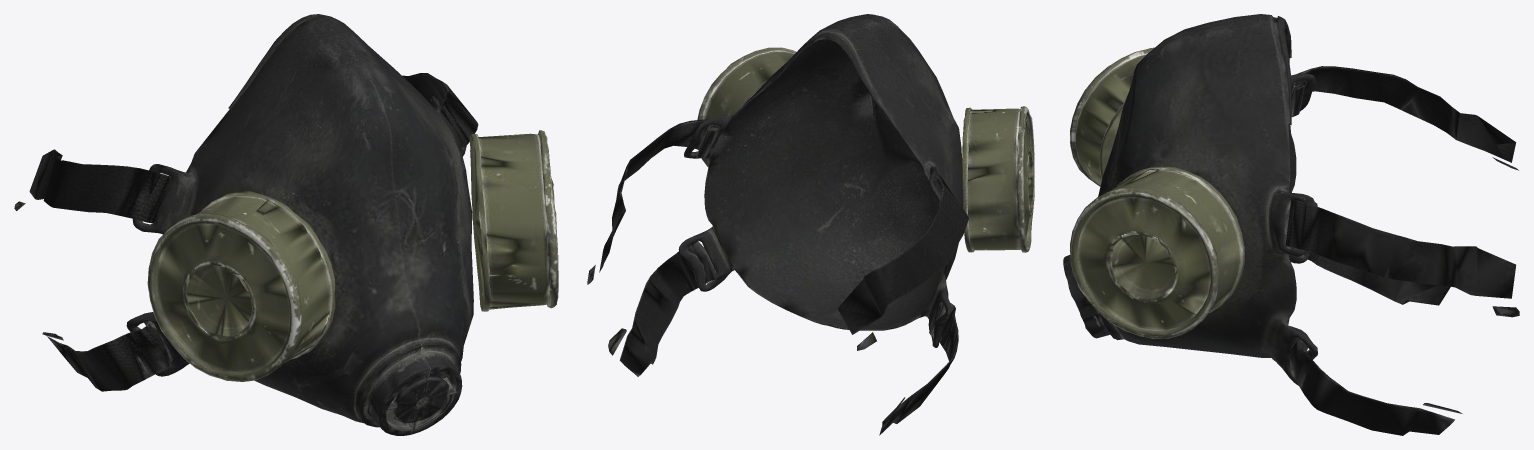
File: respirator.glb
3 views of the same model, side by side, from view 1: azimuth 30°, elevation 25°; view 2: azimuth 150°, elevation 25°; view 3: azimuth 270°, elevation 25° (orthographic). The views are drawn at different scales.
Visible parts, largest first — view 1: respirator; view 2: respirator; view 3: respirator.
Part boxes in pixels (x1=…): respirator: x1=14, y1=14, x2=558, y2=435; respirator: x1=587, y1=14, x2=1034, y2=435; respirator: x1=1063, y1=14, x2=1519, y2=435.
Bounding box in the file's own units: 0.37 × 0.3458 × 0.4043.
Materials: 1 (1 with a texture image).
